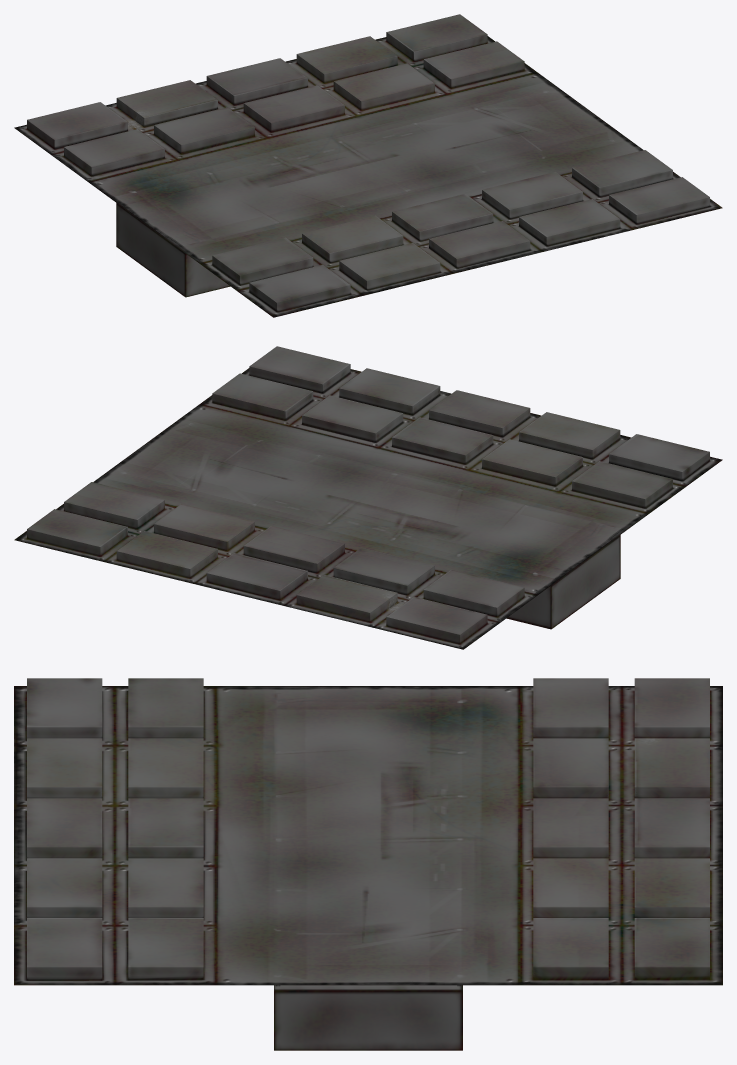
The model's file is Celing.fbx.
The picture shows the model from 3 angles, top to bottom: view 1: azimuth 30°, elevation 25°; view 2: azimuth 150°, elevation 25°; view 3: azimuth 270°, elevation 25°; orthographic projection. The views are drawn at different scales.
Parts seen in each view (by area): view 1: vent2.001; view 2: vent2.001; view 3: vent2.001.
Part boxes in pixels (<box>): vent2.001: <box>14,14,722,317</box>; vent2.001: <box>14,346,722,649</box>; vent2.001: <box>14,678,722,1050</box>.
Size of the model in its own units: 750 by 750 by 121.
